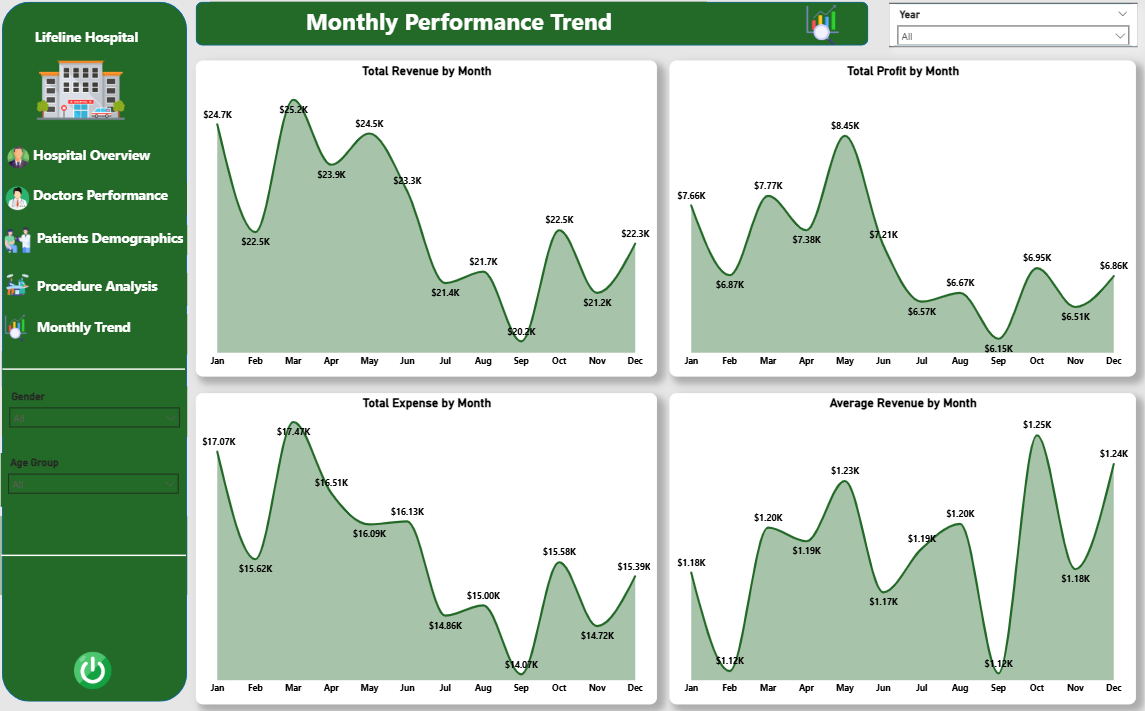

Layout of this report page (visuals, bound fields, positions):
{"tool":"powerbi","page":{"name":"Monthly Trend","canvas":[1600,1000],"ordinal":4},"visuals":[{"type":"shape","box":[13.8,12.1,255.7,967.5],"z":0},{"type":"shape","box":[281.6,12.1,929.5,60.5],"z":1000},{"type":"image","box":[20.7,205.6,31.1,43.2],"z":2000},{"type":"image","box":[48.4,69.1,148.6,127.9],"z":3000},{"type":"textbox","box":[22.5,43.2,216,50.1],"z":4000},{"type":"image","box":[81.2,908.8,115.8,55.3],"z":5000},{"type":"image","box":[19,260.9,32.8,44.9],"z":6000},{"type":"image","box":[13.8,321.4,43.2,39.7],"z":7000},{"type":"image","box":[13.8,387,43.2,32.8],"z":8000},{"type":"image","box":[13.8,444,38,38],"z":9000},{"type":"shape","box":[1240.5,13.8,342.1,60.5],"z":10000},{"type":"slicer","fields":{"Values":["DateTable.Year"]},"box":[1240.5,15.5,342.1,57],"z":11000},{"type":"textbox","box":[302.4,12.1,685.9,57],"z":12000},{"type":"textbox","box":[51.8,205.6,216,43.2],"z":13000},{"type":"textbox","box":[51.8,260.9,217.7,44.9],"z":14000},{"type":"textbox","box":[57,321.4,212.5,39.7],"z":15000},{"type":"textbox","box":[57,387,212.5,44.9],"z":16000},{"type":"textbox","box":[57,444,212.5,55.3],"z":17000},{"type":"slicer","fields":{"Values":["Dim_Patients_Table.Patients_Gender"]},"box":[13.8,544.2,255.7,69.1],"z":18000},{"type":"slicer","fields":{"Values":["Dim_Patients_Table.Age_Group"]},"box":[12.1,635.8,255.7,74.3],"z":19000},{"type":"shape","box":[13.8,495.9,254,48.4],"z":20000},{"type":"shape","box":[12.1,723.9,257.4,107.1],"z":21000},{"type":"lineChart","title":"Total Revenue by Month","fields":{"Category":["DateTable.Short Month"],"Y":["Measure_Table.Total Revenue"]},"box":[281.6,93.3,637.5,437.1],"z":22000},{"type":"lineChart","title":"Total Profit by Month","fields":{"Category":["DateTable.Short Month"],"Y":["Measure_Table.Total Profit"]},"box":[936.4,93.3,644.4,437.1],"z":23000},{"type":"lineChart","title":"Total Expense by Month","fields":{"Category":["DateTable.Short Month"],"Y":["Measure_Table.Total Expenses"]},"box":[281.6,552.9,637.5,430.2],"z":24000},{"type":"lineChart","title":"Average Revenue by Month","fields":{"Category":["DateTable.Short Month"],"Y":["Measure_Table.Average Revenue"]},"box":[936.4,552.9,644.4,430.2],"z":25000},{"type":"image","box":[1116.1,15.5,63.9,57],"z":27000}]}

Visuals, with their boxes on the page's 1600x1000 design canvas (x1, y1, x2, y2). These are canvas units, not pixel positions in the 1145x711 screenshot, which may show the page scaled, cropped or inside an application window:
shape: region(14, 12, 270, 980)
shape: region(282, 12, 1211, 73)
image: region(21, 206, 52, 249)
image: region(48, 69, 197, 197)
textbox: region(22, 43, 238, 93)
image: region(81, 909, 197, 964)
image: region(19, 261, 52, 306)
image: region(14, 321, 57, 361)
image: region(14, 387, 57, 420)
image: region(14, 444, 52, 482)
shape: region(1240, 14, 1583, 74)
slicer - DateTable.Year: region(1240, 16, 1583, 72)
textbox: region(302, 12, 988, 69)
textbox: region(52, 206, 268, 249)
textbox: region(52, 261, 270, 306)
textbox: region(57, 321, 270, 361)
textbox: region(57, 387, 270, 432)
textbox: region(57, 444, 270, 499)
slicer - Dim_Patients_Table.Patients_Gender: region(14, 544, 270, 613)
slicer - Dim_Patients_Table.Age_Group: region(12, 636, 268, 710)
shape: region(14, 496, 268, 544)
shape: region(12, 724, 270, 831)
"Total Revenue by Month" lineChart: region(282, 93, 919, 530)
"Total Profit by Month" lineChart: region(936, 93, 1581, 530)
"Total Expense by Month" lineChart: region(282, 553, 919, 983)
"Average Revenue by Month" lineChart: region(936, 553, 1581, 983)
image: region(1116, 16, 1180, 72)
